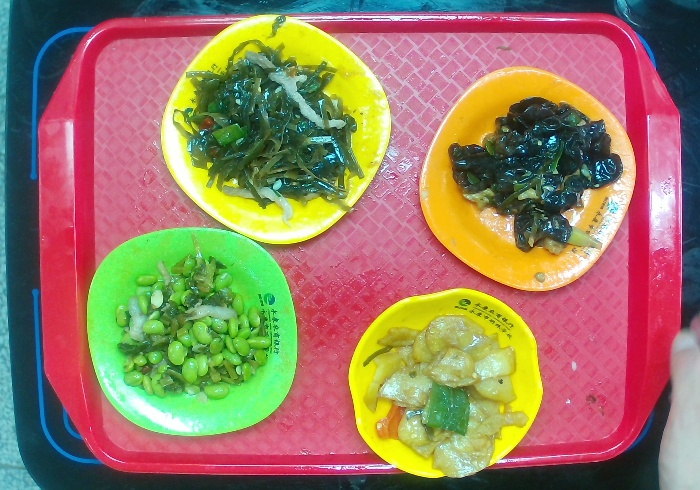YKMZ-Huang_Se_Ao_Bian_Wan: (337, 278, 551, 485)
YKMZ-Huang_Se_Fang_Die: (154, 12, 394, 256)
YKMZ-Ju_Se_Fang_Die: (407, 61, 640, 301)
YKMZ-Lv_Se_Fang_Die: (79, 220, 307, 441)
